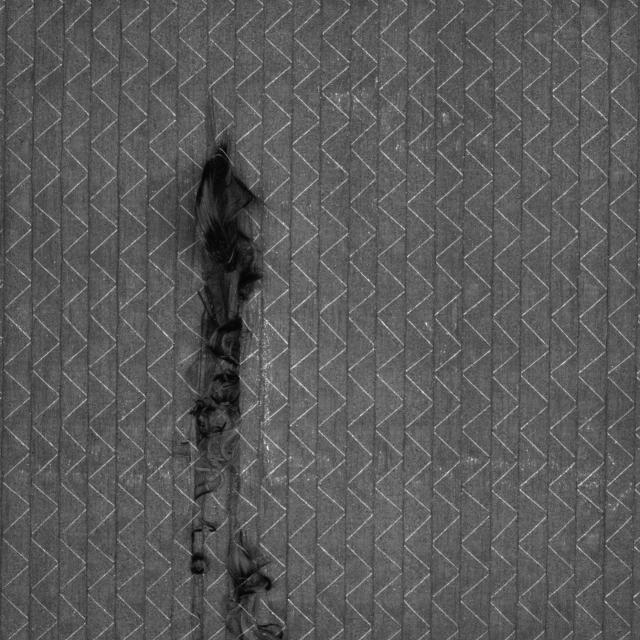carbon-fibre-defect: (169, 148, 281, 636)
